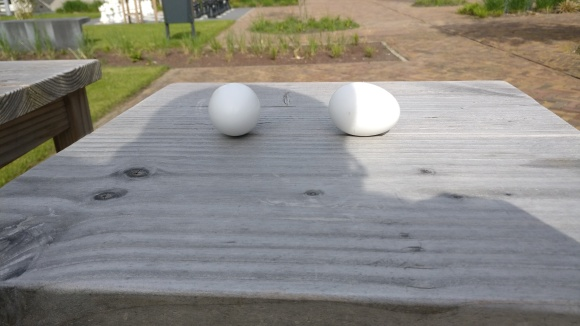egg: (327, 81, 402, 138), (208, 82, 261, 136)
